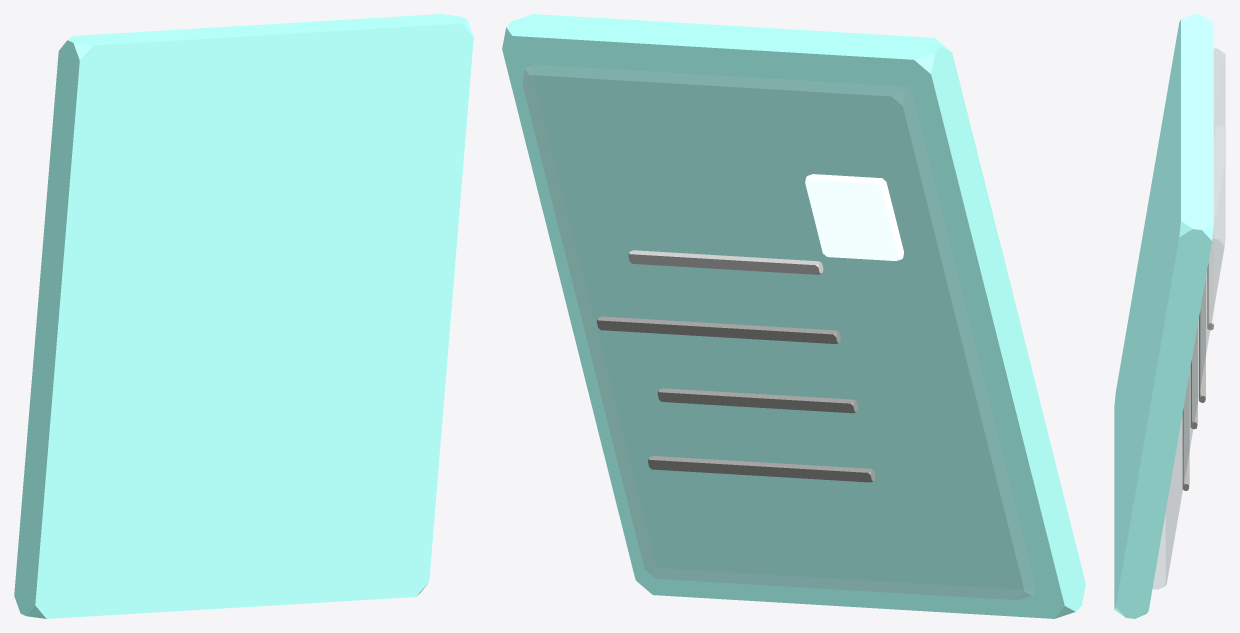
File: knowledge-slab.glb
3 views of the same model, side by side, from view 1: azimuth 30°, elevation 25°; view 2: azimuth 150°, elevation 25°; view 3: azimuth 270°, elevation 25° (orthographic). The views are drawn at different scales.
Parts seen in each view (by area): view 1: Knowledge_Back; view 2: Knowledge_Back, Knowledge_Surface, Knowledge_Mark, Knowledge_Line_2, Knowledge_Line_4, Knowledge_Line_3, Knowledge_Line_1; view 3: Knowledge_Back, Knowledge_Surface, Knowledge_Mark, Knowledge_Line_4, Knowledge_Line_2, Knowledge_Line_1, Knowledge_Line_3.
Boxes of the visible parts, box(x1,y1,x2,y2) form: Knowledge_Back: box(14, 14, 473, 618); Knowledge_Back: box(502, 14, 1085, 618); Knowledge_Surface: box(522, 65, 1035, 599); Knowledge_Mark: box(805, 174, 903, 260); Knowledge_Line_2: box(597, 316, 840, 343); Knowledge_Line_4: box(648, 456, 875, 482); Knowledge_Line_3: box(657, 388, 858, 413); Knowledge_Line_1: box(628, 250, 823, 274); Knowledge_Back: box(1114, 14, 1213, 618); Knowledge_Surface: box(1153, 48, 1225, 589); Knowledge_Mark: box(1213, 125, 1224, 216); Knowledge_Line_4: box(1182, 374, 1189, 490); Knowledge_Line_2: box(1199, 278, 1205, 402); Knowledge_Line_1: box(1207, 229, 1214, 330); Knowledge_Line_3: box(1190, 326, 1197, 429).
Size of the model in its own units: 1.9 by 2.25 by 0.4702.
